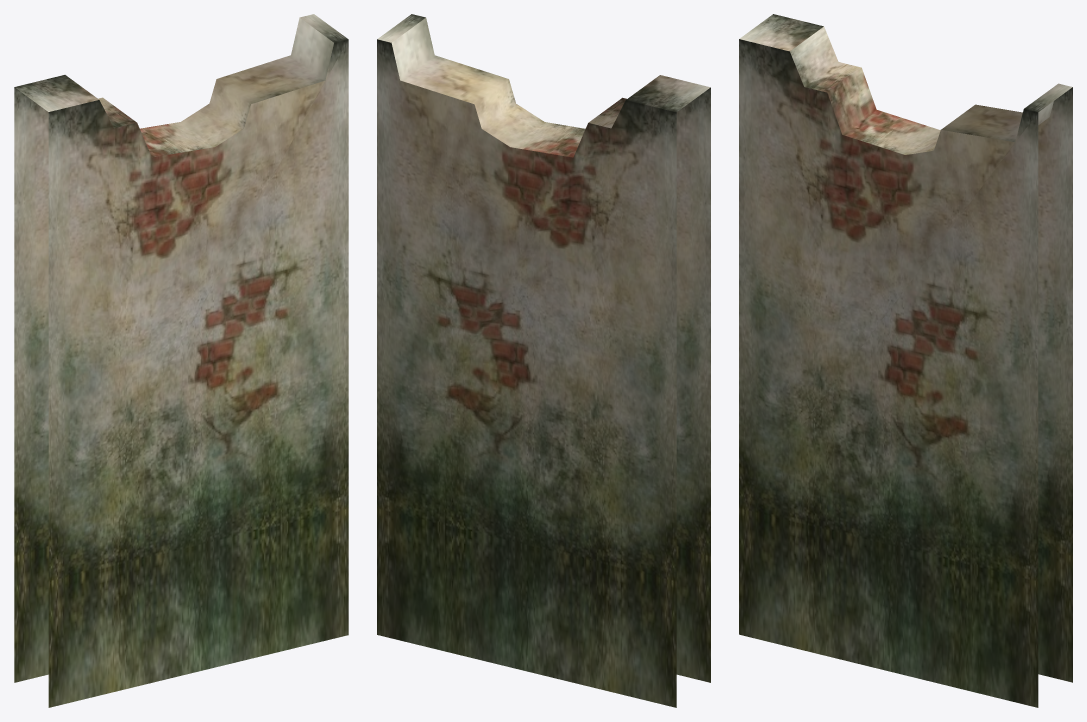
The model's file is TallWallStucco_Broken10.fbx.
3 views of the same model, side by side, from view 1: azimuth 30°, elevation 25°; view 2: azimuth 150°, elevation 25°; view 3: azimuth 330°, elevation 25° (orthographic).
Parts seen in each view (by area): view 1: lod_high; view 2: lod_high; view 3: lod_high.
Boxes of the visible parts, bbox=[...] form: lod_high: bbox=[14, 14, 348, 707]; lod_high: bbox=[377, 14, 710, 707]; lod_high: bbox=[739, 14, 1072, 707].
Size of the model in its own units: 1000 by 1900 by 200.
1 material, 1 textured.
